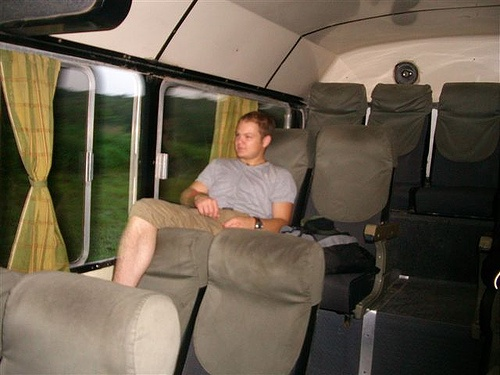head: (234, 113, 275, 162)
person: (99, 108, 300, 286)
